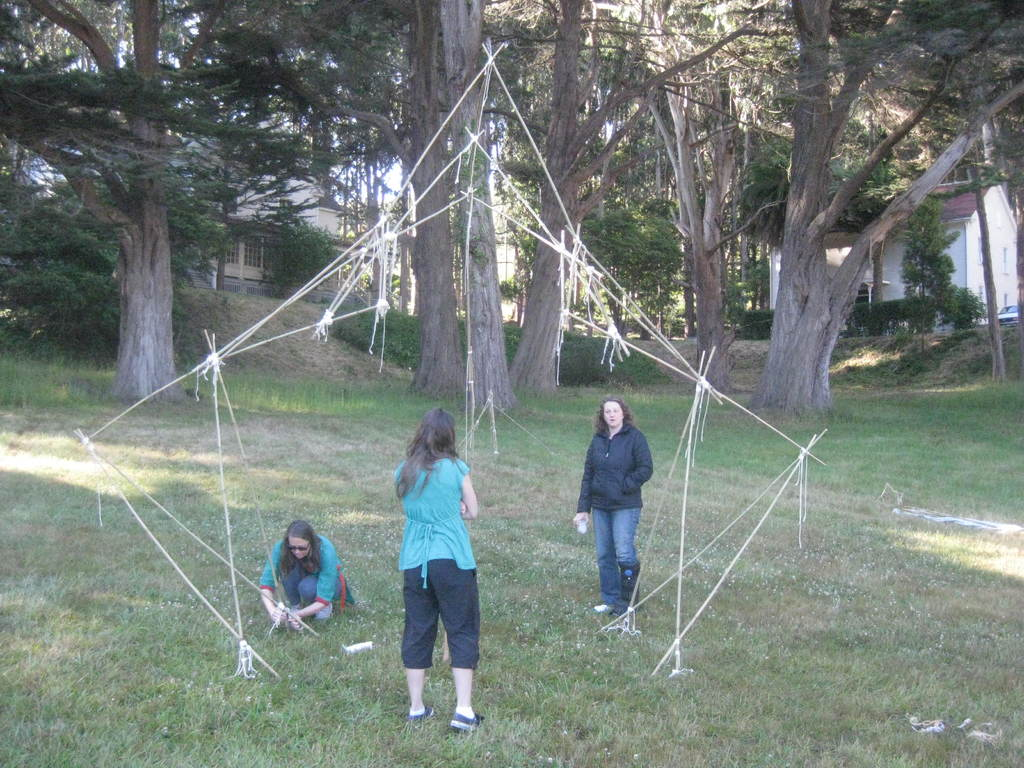Person: (259, 520, 354, 628)
